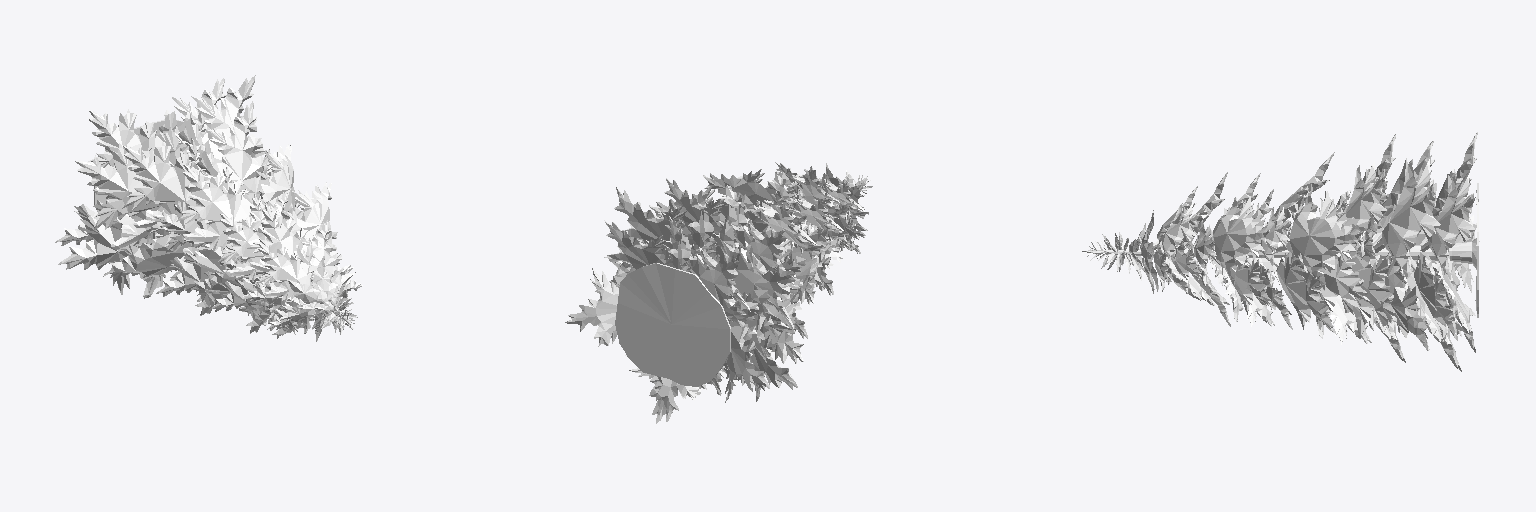
The model's file is SnowyPineTree.obj.
3 views of the same model, side by side, from view 1: azimuth 30°, elevation 25°; view 2: azimuth 150°, elevation 25°; view 3: azimuth 270°, elevation 25° (orthographic).
Visible parts, largest first — view 1: Object.1; view 2: Object.1; view 3: Object.1.
Boxes of the visible parts, <box> form: Object.1: <box>55,75,362,341</box>; Object.1: <box>565,162,872,423</box>; Object.1: <box>1082,132,1479,371</box>.
Size of the model in its own units: 10 by 8.9 by 15.09.